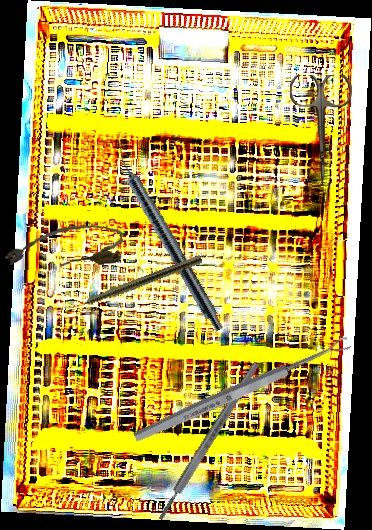Cannula: (2, 220, 125, 274)
Handpiece: (107, 141, 230, 334), (61, 253, 204, 316)
Iris Scissors: (290, 75, 352, 186)
Scalpel Handle: (155, 360, 262, 523)
Surgical Spoon: (131, 335, 353, 445)
